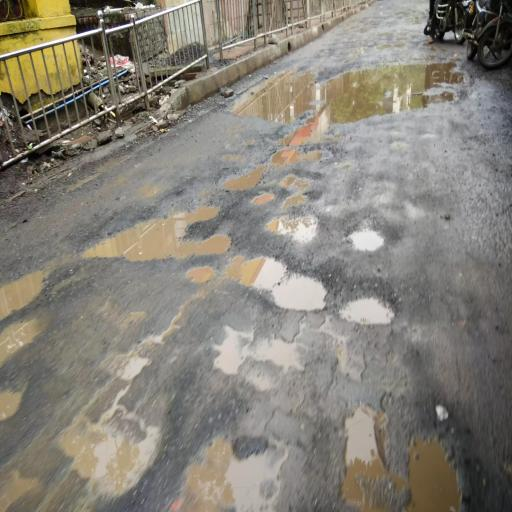hole: (234, 54, 473, 127), (75, 197, 242, 268), (341, 281, 396, 333), (343, 217, 385, 261)
